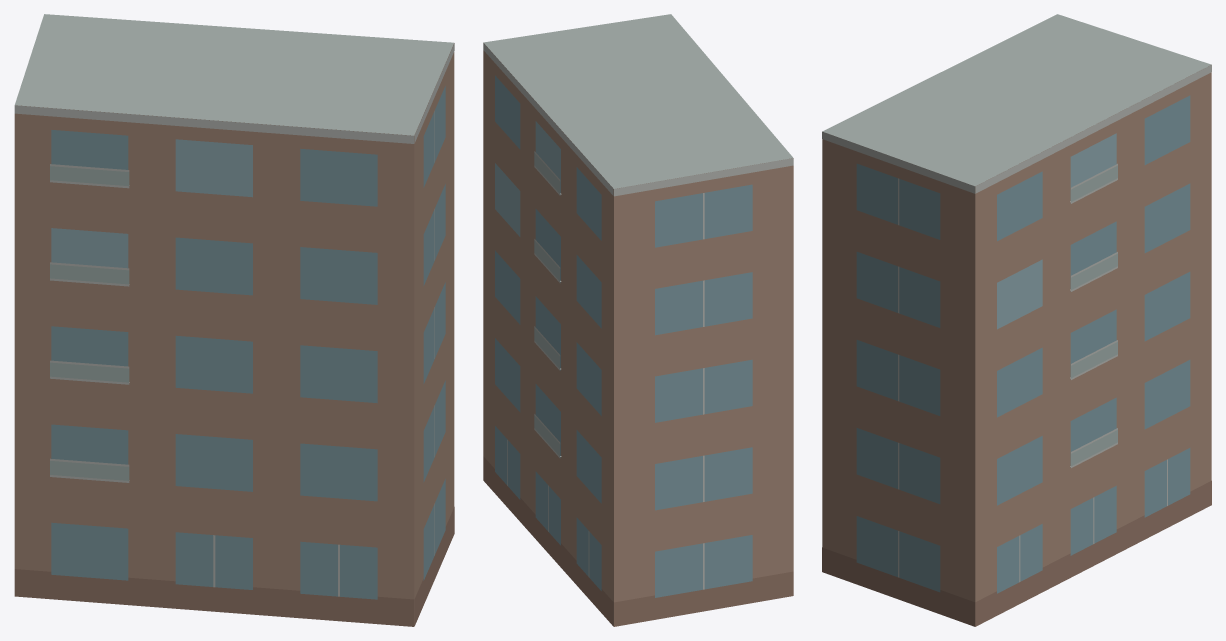
Rendered from survey-upis-32873117.glb.
3 views of the same model, side by side, from view 1: azimuth 30°, elevation 25°; view 2: azimuth 150°, elevation 25°; view 3: azimuth 270°, elevation 25° (orthographic). The views are drawn at different scales.
Visible parts, largest first — view 1: survey-upis-32873117.tmp; view 2: survey-upis-32873117.tmp; view 3: survey-upis-32873117.tmp.
Part boxes in pixels (x1,y1,x2,y2): survey-upis-32873117.tmp: (14,14,454,626); survey-upis-32873117.tmp: (483,14,793,626); survey-upis-32873117.tmp: (822,14,1211,626).
Bounding box in the file's own units: 12.01 × 14.3 × 11.47.
